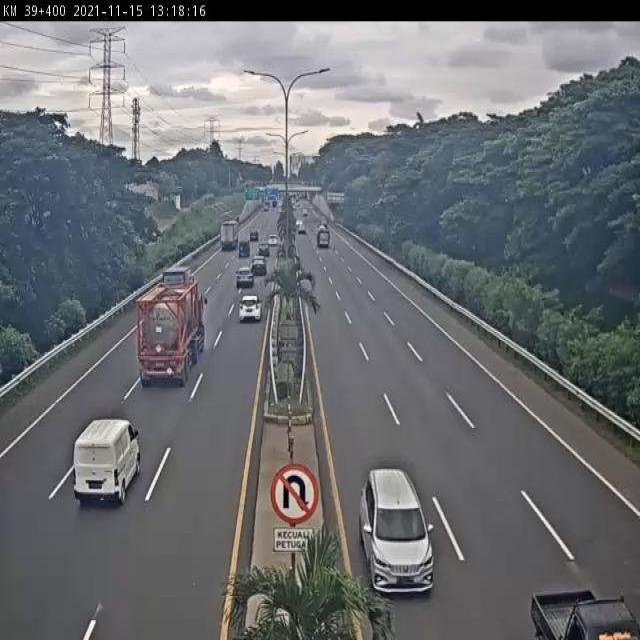bus-s-: (72, 416, 140, 505)
car: (359, 463, 437, 597), (238, 293, 263, 323), (235, 265, 255, 288)
truck-xl-: (137, 278, 204, 382)
